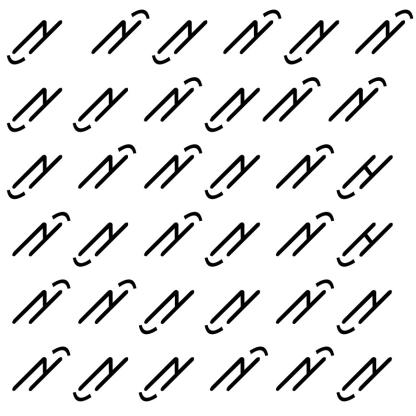waw: (72, 346, 130, 405), (335, 348, 395, 404), (203, 284, 266, 336), (6, 12, 64, 68), (3, 146, 63, 200), (139, 281, 199, 335), (334, 282, 393, 336), (73, 214, 130, 269), (150, 11, 208, 64), (70, 84, 130, 134), (138, 352, 198, 402), (203, 84, 262, 134), (5, 86, 64, 136), (203, 218, 262, 268), (283, 14, 340, 65), (204, 150, 262, 200)
way: (10, 337, 71, 400), (271, 270, 334, 329), (75, 136, 138, 194), (219, 3, 283, 59), (271, 140, 334, 194), (328, 70, 390, 124), (274, 206, 336, 260), (141, 74, 203, 127), (10, 208, 73, 260), (352, 6, 415, 56), (264, 72, 323, 125), (144, 206, 204, 258), (8, 276, 71, 325), (91, 6, 150, 58), (275, 341, 335, 392), (142, 141, 204, 189), (76, 279, 138, 326), (209, 345, 269, 393)
